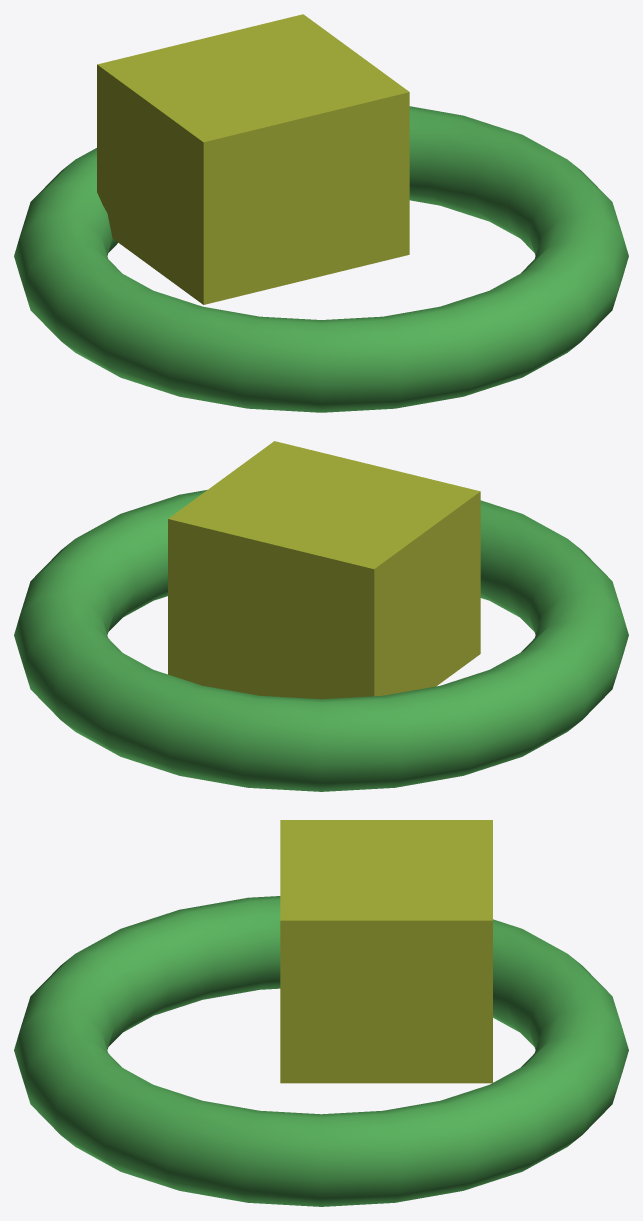
3 renders of one model, top to bottom at view 1: azimuth 30°, elevation 25°; view 2: azimuth 150°, elevation 25°; view 3: azimuth 270°, elevation 25°, orthographic.
Visible parts, largest first — view 1: component; view 2: component; view 3: component.
Boxes of the visible parts, bbox=[...] form: component: bbox=[14, 14, 628, 412]; component: bbox=[14, 441, 628, 791]; component: bbox=[14, 820, 628, 1206].
Bounding box in the file's own units: 73.59 × 27.05 × 73.59.
